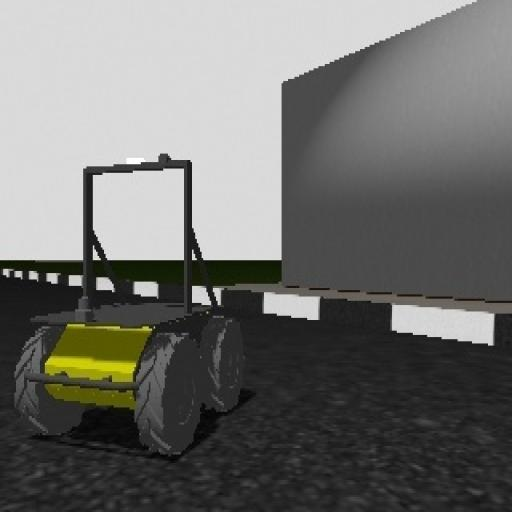huskya200: (11, 146, 243, 486)
